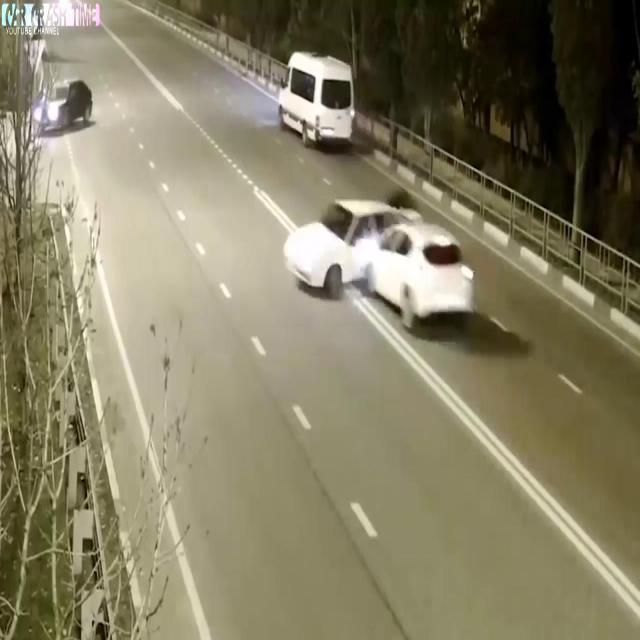accident: (279, 182, 479, 349)
